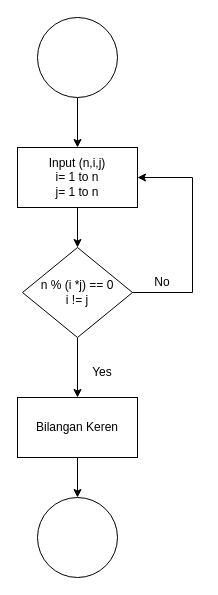
This 218x595 diagram has some shape labels left out. The centre of each missing label's shape, as x and y in pixels:
Selesai: the point at 77,537
START: the point at 77,57
